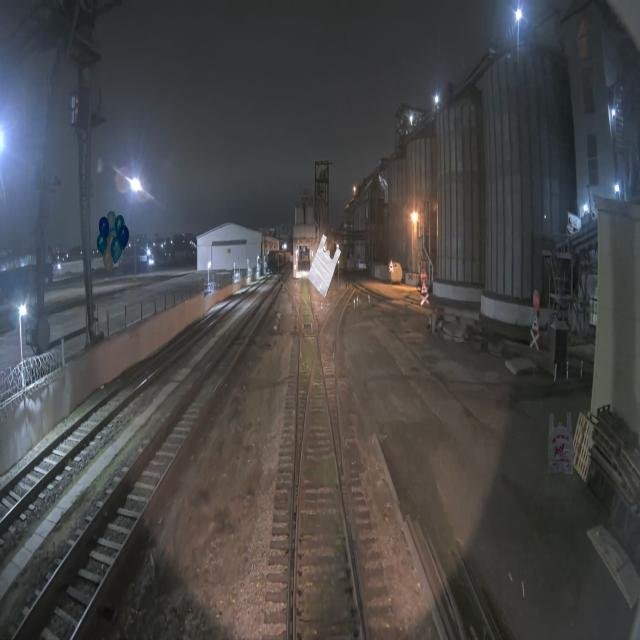balloon: (97, 210, 129, 274)
plastic bag: (307, 234, 341, 298), (548, 412, 574, 476)
